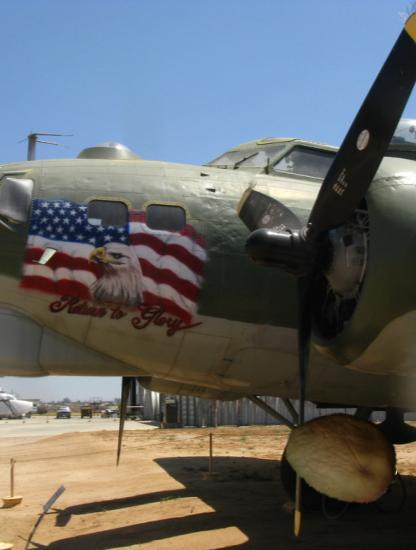Papaya: (283, 398, 400, 515)
